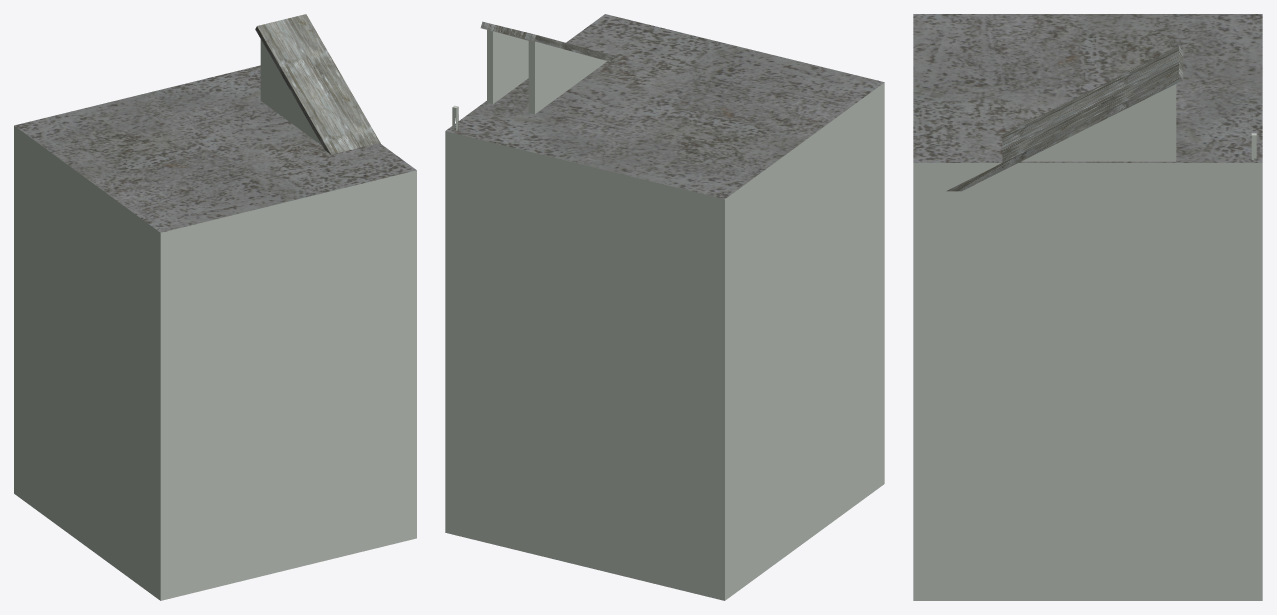
Rendered from BagBuilding1_60.fbx.
3 views of the same model, side by side, from view 1: azimuth 30°, elevation 25°; view 2: azimuth 150°, elevation 25°; view 3: azimuth 270°, elevation 25° (orthographic). The views are drawn at different scales.
Parts seen in each view (by area): view 1: box60, roof60, shedroof60, shedsides60; view 2: box60, roof60, shedsides60, shedroof60; view 3: box60, roof60, shedroof60, shedsides60.
Part boxes in pixels (x1,y1,x2,y2): box60: (14,126,416,600); roof60: (14,65,416,232); shedroof60: (255,14,380,154); shedsides60: (260,39,321,145); box60: (445,82,884,600); roof60: (445,14,884,199); shedsides60: (452,30,607,130); shedroof60: (480,21,616,61); box60: (913,163,1262,600); roof60: (913,14,1262,162); shedroof60: (946,46,1183,191); shedsides60: (1021,84,1256,161).
Size of the model in its own units: 14.36 by 23.62 by 14.18.
